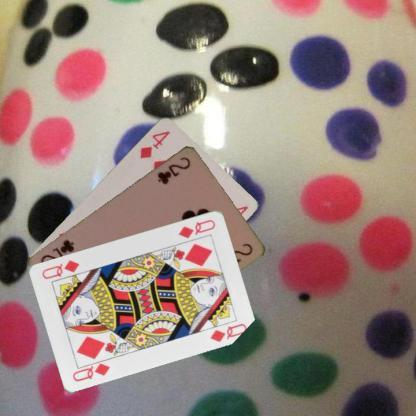2c: (154, 154, 194, 186)
4d: (137, 127, 172, 160)
Qd: (70, 354, 112, 382), (176, 216, 216, 239)
